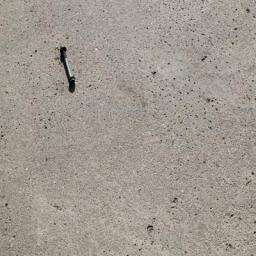FOD: (55, 45, 79, 95)
